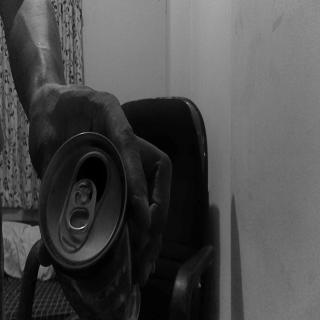alumunium_can: (40, 134, 139, 312)
